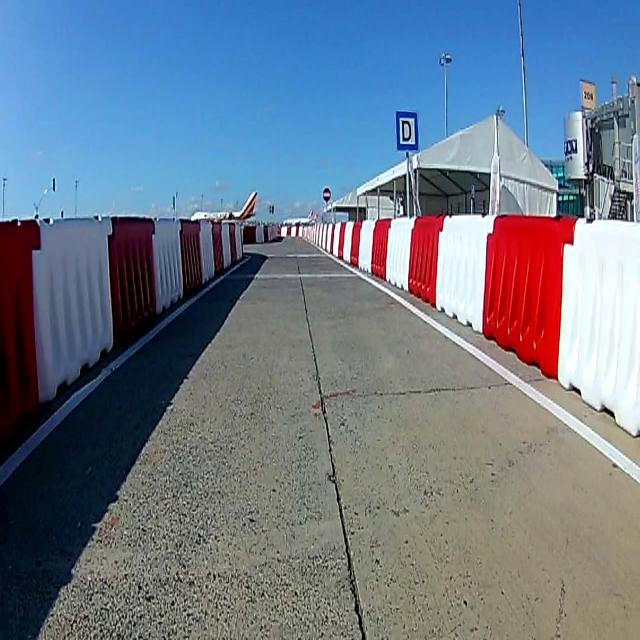durak: (396, 109, 418, 153)
girisyok: (323, 186, 330, 202)
